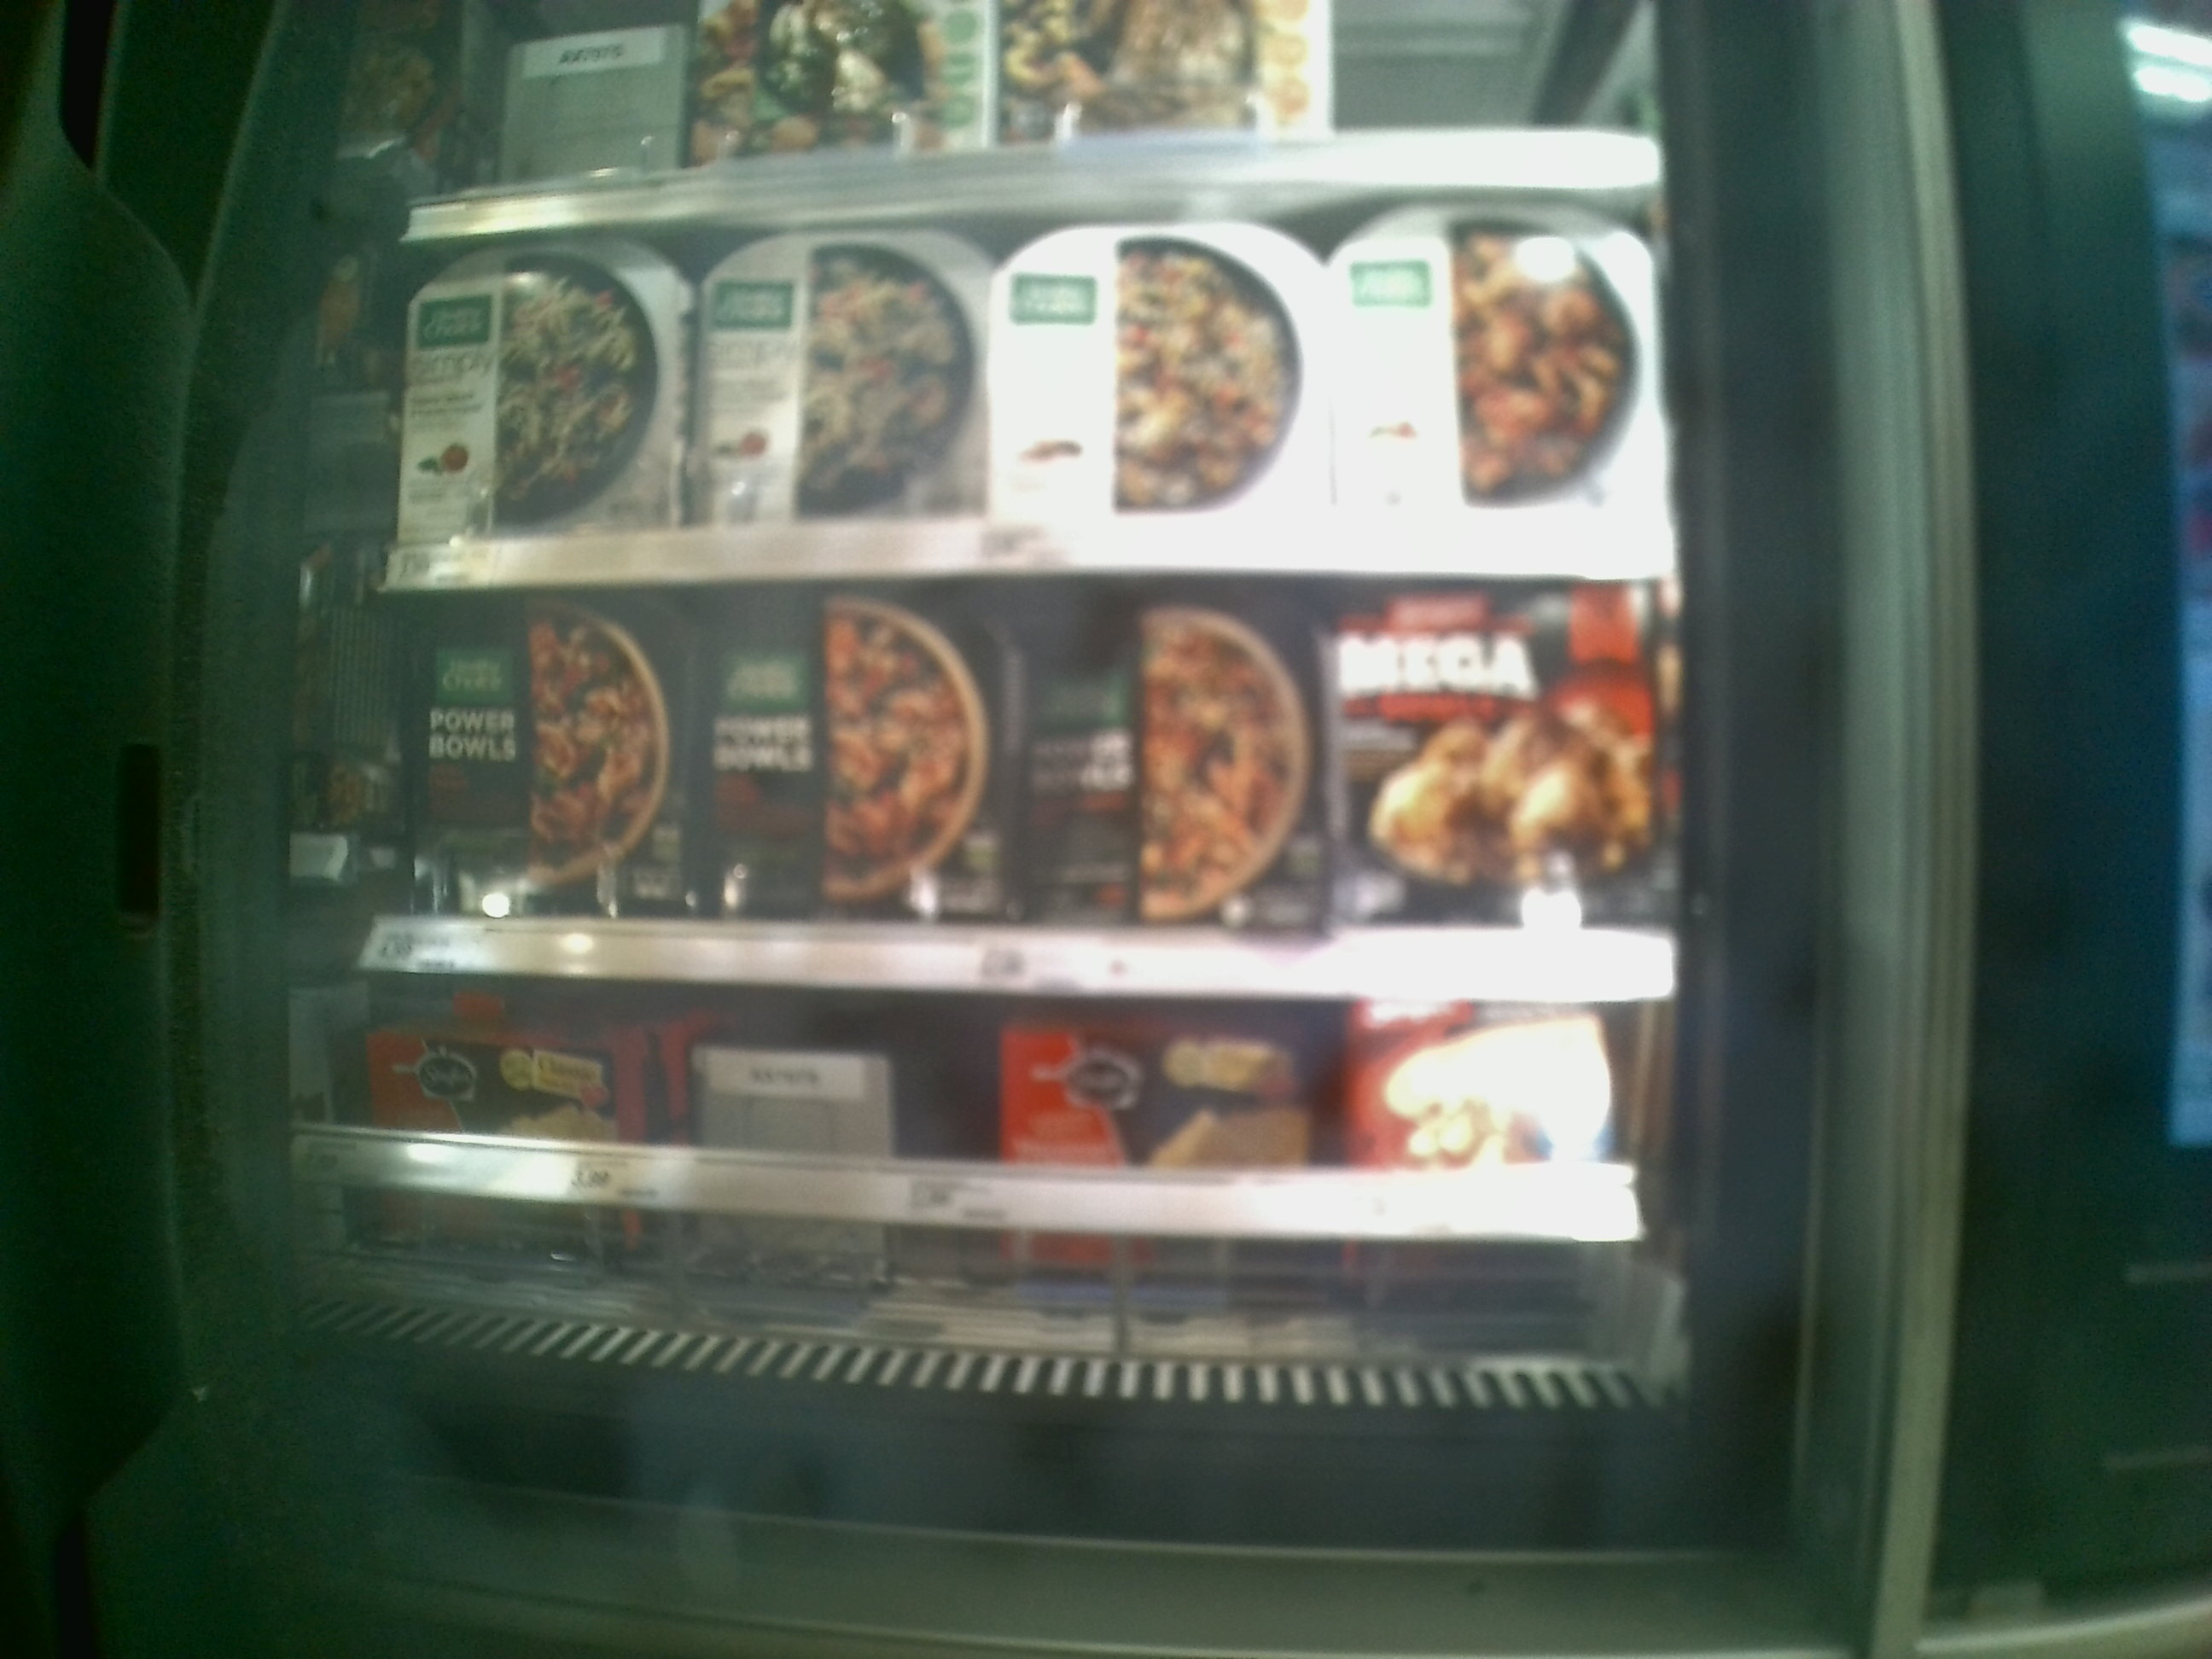shelf: (340, 969, 1686, 1406), (364, 575, 1689, 1000), (361, 181, 1667, 575)
